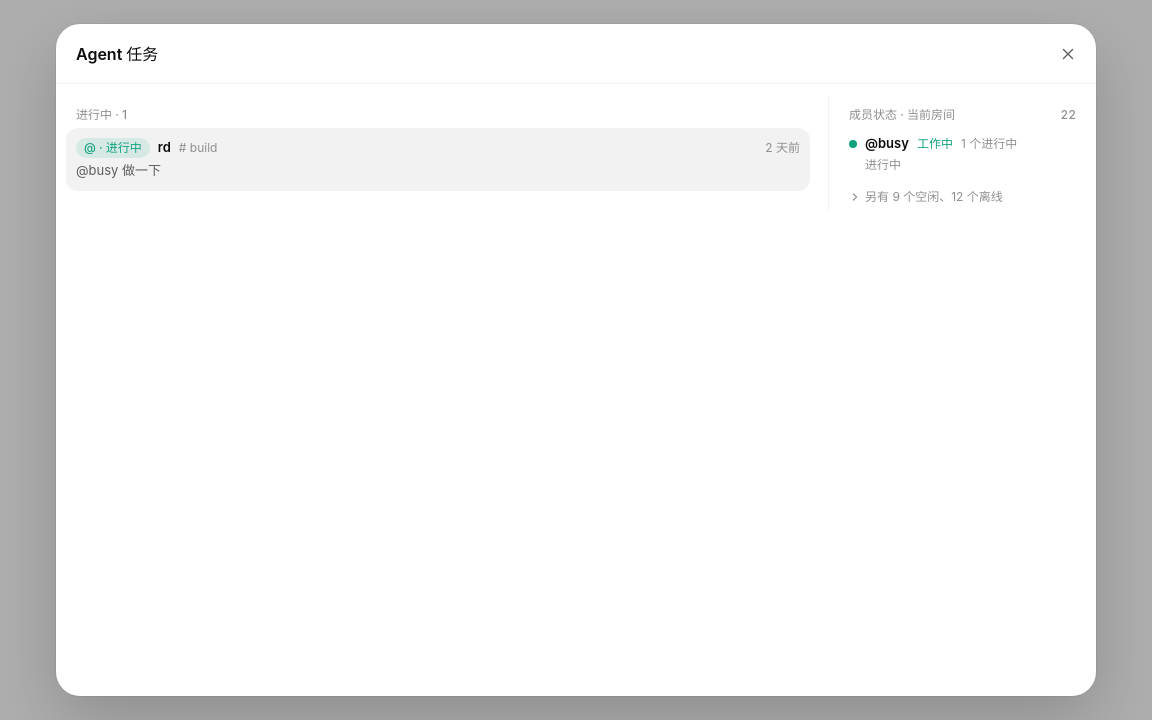
Scenario: ActivityPanel · Agent 任务 › 任务列表在前，成员状态只列有事的 Agent，空闲、离线收成一行，点开才列出
Later steps or results of the test are not shown.
Expected: the text "@idle0" is not shown
Click the button "另有 9 个空闲、12 个离线".
click(926, 196)  # box [839,184,1013,210]
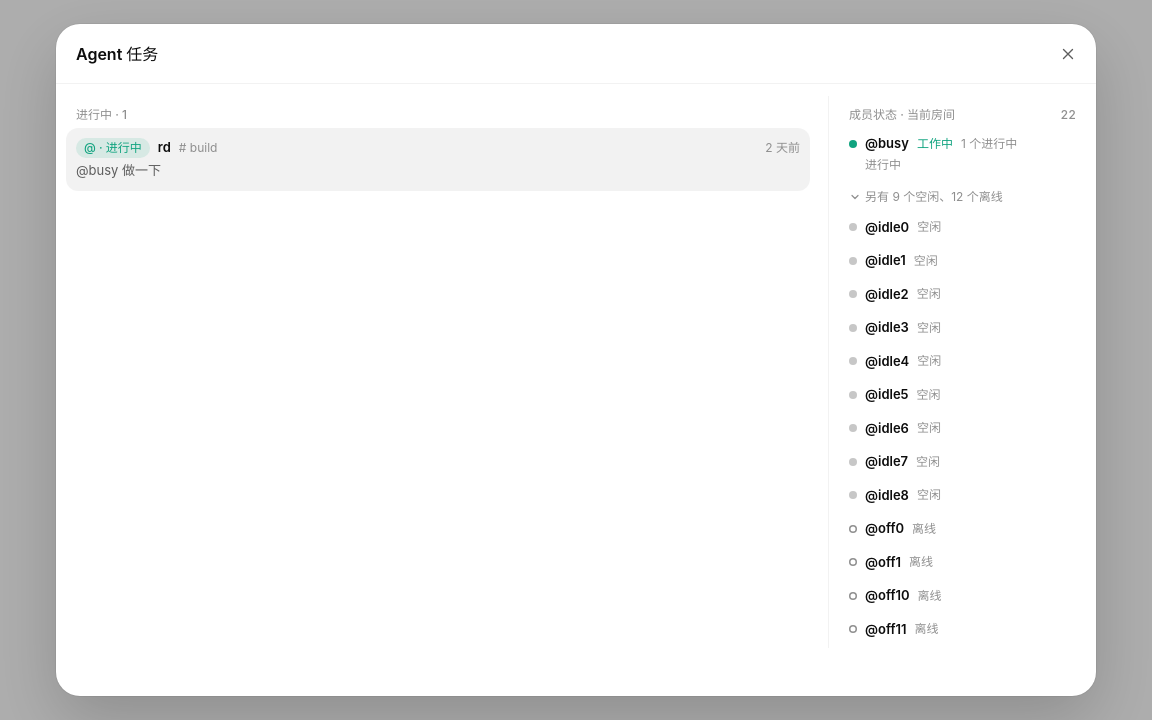
Expected: the button "另有 9 个空闲、12 个离线" is expanded, [839,184,1013,210]
Expected: the text "@idle0" is shown, [865,218,909,237]
Expected: the text "@off11" is shown, [865,620,906,639]
